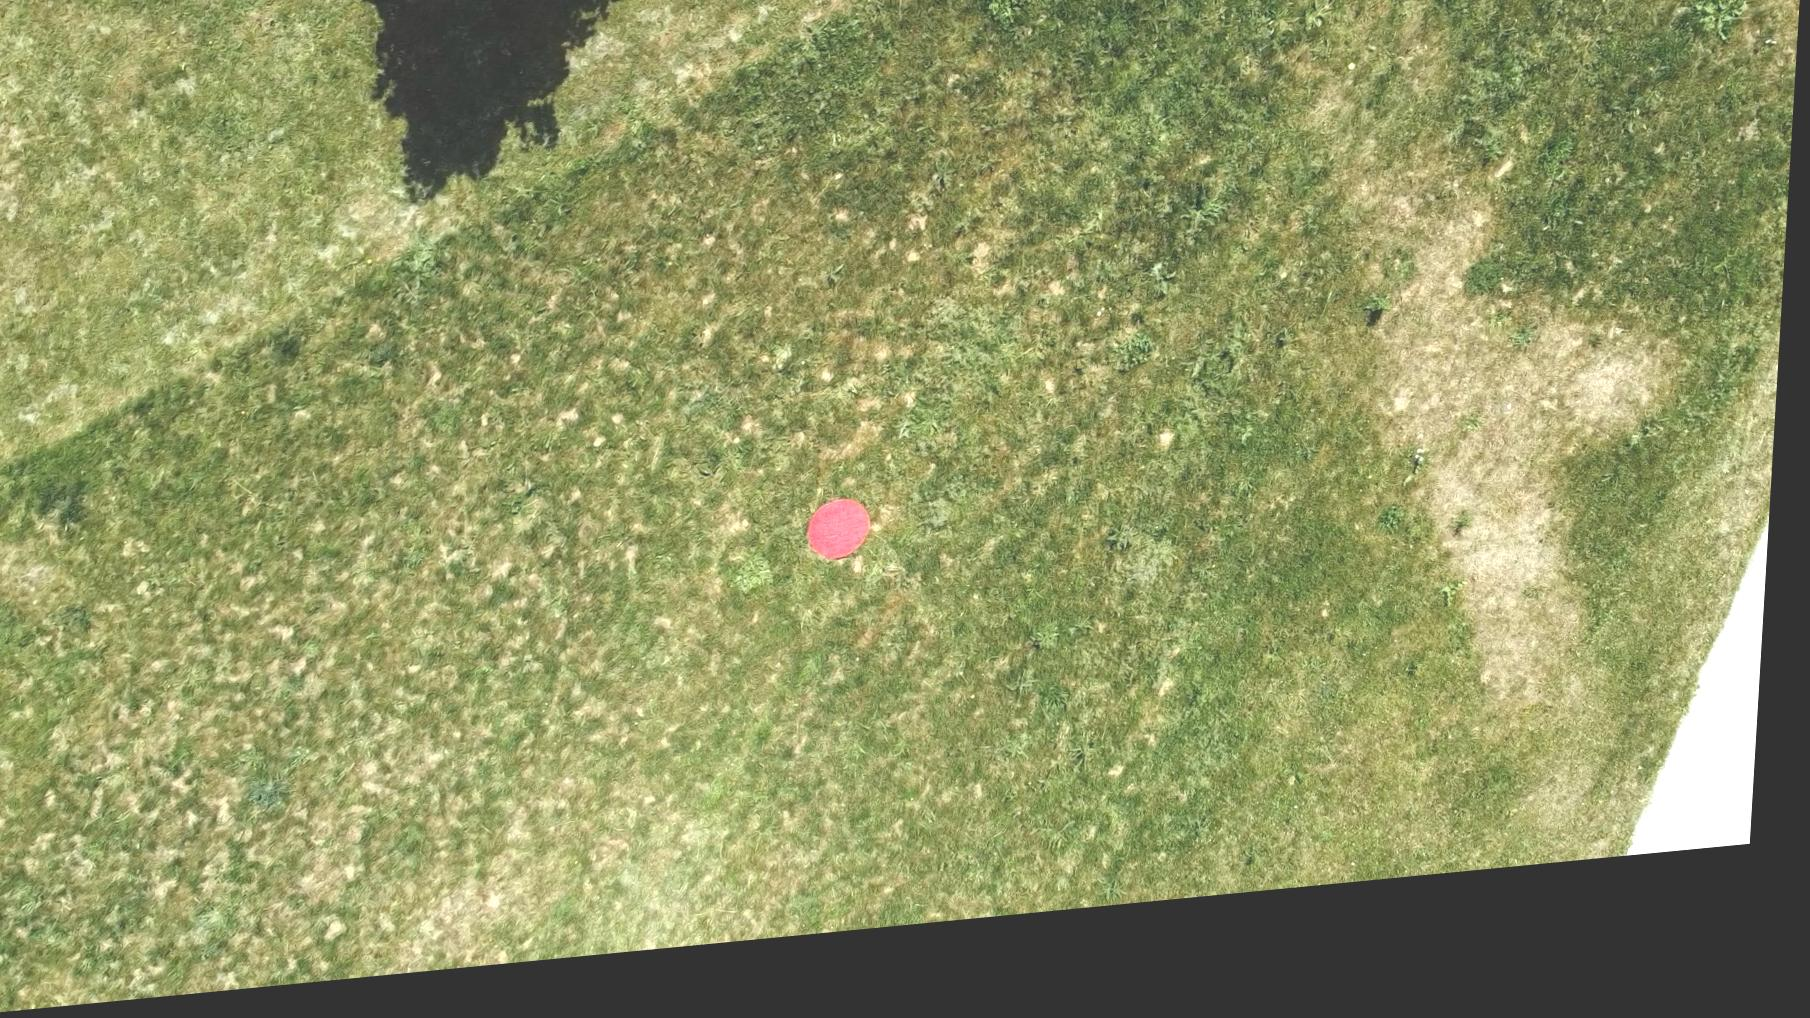Red: (811, 510, 883, 582)
